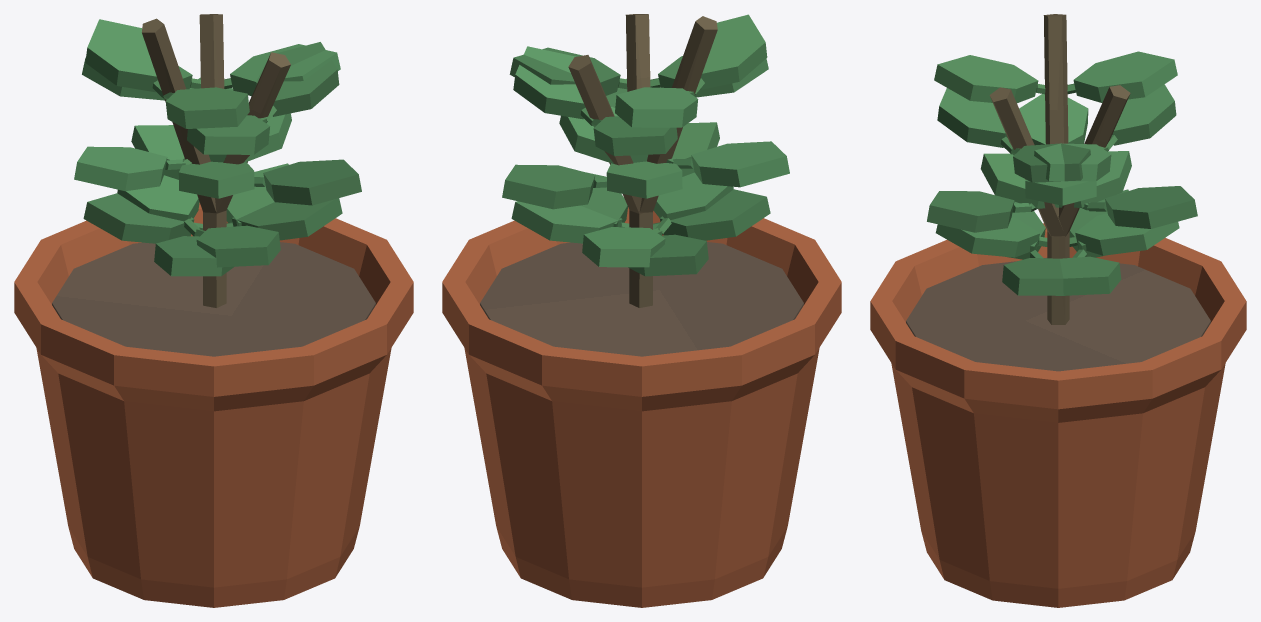
The model's file is jade.glb.
The picture shows the model from 3 angles, left to right: view 1: azimuth 30°, elevation 25°; view 2: azimuth 150°, elevation 25°; view 3: azimuth 270°, elevation 25°; orthographic projection. The views are drawn at different scales.
Parts seen in each view (by area): view 1: jade/review-terra-vessel, jade/review-rooted-soil, jade/leaf-024, jade/leaf-033, jade/leaf-020, jade/stem-014, jade/leaf-005, jade/leaf-026, jade/leaf-018, jade/leaf-003, jade/stem-027, jade/leaf-039 (+10 smaller); view 2: jade/review-terra-vessel, jade/review-rooted-soil, jade/leaf-020, jade/leaf-007, jade/leaf-026, jade/leaf-029, jade/stem-014, jade/leaf-024, jade/leaf-016, jade/leaf-011, jade/leaf-031, jade/stem-001 (+10 smaller); view 3: jade/review-terra-vessel, jade/review-rooted-soil, jade/stem-014, jade/leaf-024, jade/leaf-026, jade/leaf-007, jade/leaf-033, jade/leaf-037, jade/leaf-016, jade/leaf-018, jade/leaf-013, jade/stem-027 (+11 smaller).
Part boxes in pixels (x1,y1,x2,y2): jade/review-terra-vessel: (14,202,413,607); jade/review-rooted-soil: (52,242,375,356); jade/leaf-024: (85,19,157,92); jade/leaf-033: (263,159,361,205); jade/leaf-020: (74,146,167,191); jade/stem-014: (141,18,226,307); jade/leaf-005: (83,193,194,243); jade/leaf-026: (165,87,249,128); jade/leaf-018: (196,225,280,267); jade/leaf-003: (231,198,342,240); jade/stem-027: (203,52,290,307); jade/leaf-039: (256,42,339,116); jade/review-terra-vessel: (442,207,841,607); jade/review-rooted-soil: (480,242,803,356); jade/leaf-020: (691,141,789,187); jade/leaf-007: (502,164,595,209); jade/leaf-026: (700,14,767,89); jade/leaf-029: (659,189,770,240); jade/stem-014: (629,16,717,307); jade/leaf-024: (615,87,698,127); jade/leaf-016: (582,227,665,267); jade/leaf-011: (513,46,585,119); jade/leaf-031: (511,201,622,243); jade/stem-001: (568,55,652,307); jade/review-terra-vessel: (870,223,1246,607); jade/review-rooted-soil: (906,257,1210,371); jade/stem-014: (1043,14,1069,324); jade/leaf-024: (1073,51,1177,102); jade/leaf-026: (934,55,1038,103); jade/leaf-007: (1105,186,1197,228); jade/leaf-033: (927,191,1014,232); jade/leaf-037: (937,88,1007,147); jade/leaf-016: (1075,213,1179,255); jade/leaf-018: (935,217,1039,257); jade/leaf-013: (1112,84,1176,145); jade/stem-027: (989,87,1065,321).
Bounding box in the file's own units: 0.19 × 0.2846 × 0.19.
4 materials, 4 textured.
